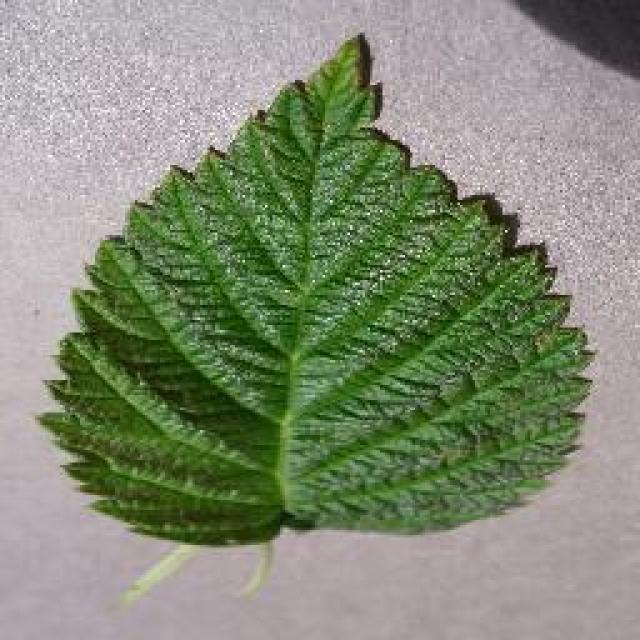Ras_healthy: (90, 147, 554, 538)
